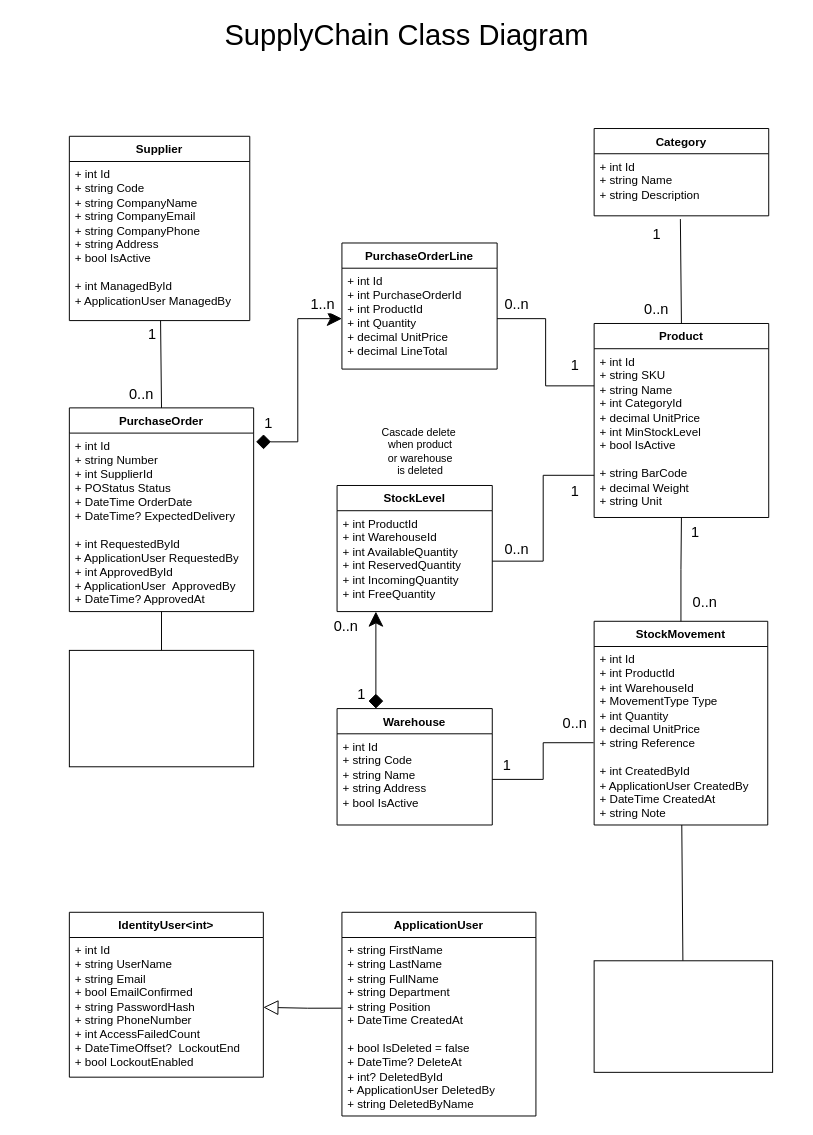
This 813x1135 diagram has some shape labels left out. Here are the shapes that lost their labels. From the top down, the centre of each, then its label:
pixel 161 708: <<enumeration>> POStatus Draft Approved Sent Received Closed
pixel 683 1016: <<enumeration>> MovementType In Out Transfer Adjustment
